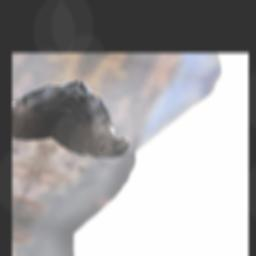Crow: (47, 78, 158, 167)
